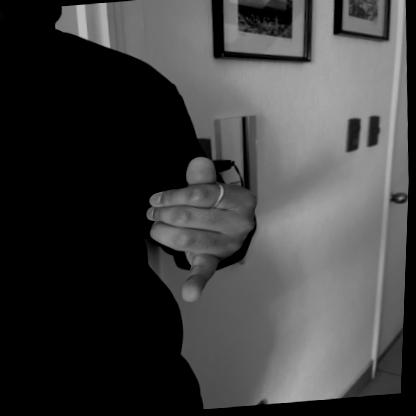Z: (138, 151, 267, 312)
